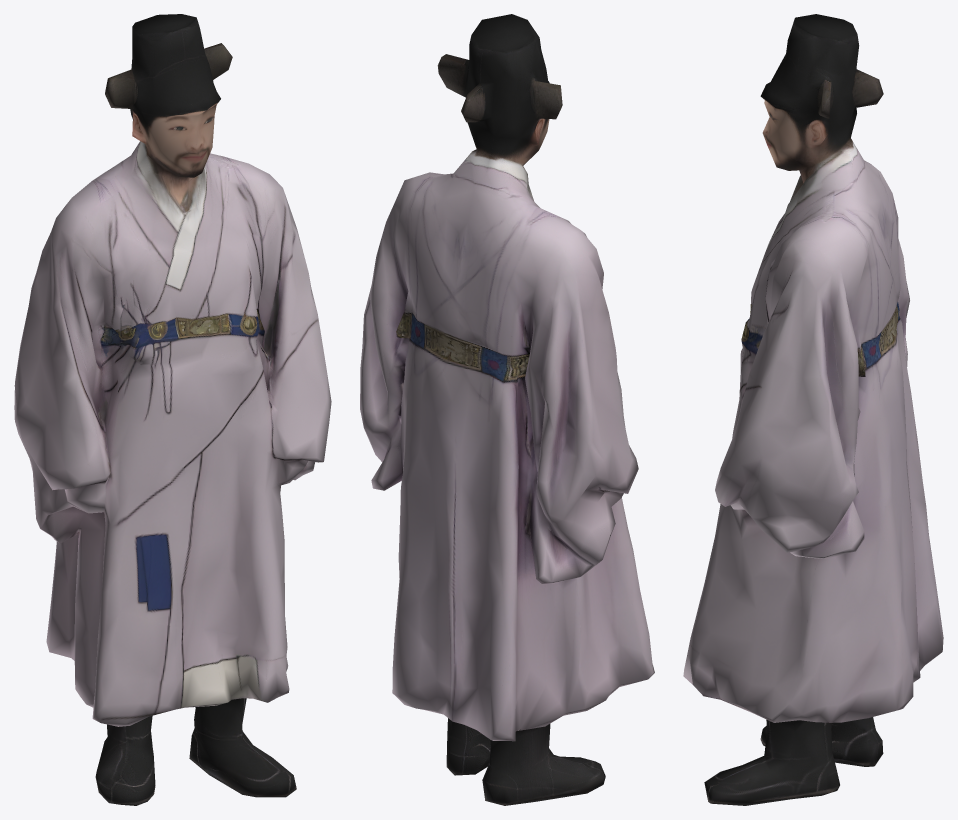
The model's file is dangsangwan-pink-stand.glb.
3 renders of one model, left to right at view 1: azimuth 30°, elevation 25°; view 2: azimuth 150°, elevation 25°; view 3: azimuth 270°, elevation 25°, orthographic.
Parts seen in each view (by area): view 1: Mesh_0.001; view 2: Mesh_0.001; view 3: Mesh_0.001.
Boxes of the visible parts, x1,y1,x2,y2 form: Mesh_0.001: (14, 14, 331, 805); Mesh_0.001: (360, 14, 654, 805); Mesh_0.001: (683, 14, 943, 805).
Size of the model in its own units: 3.65 by 10 by 3.14.
Materials: 1 (1 with a texture image).
